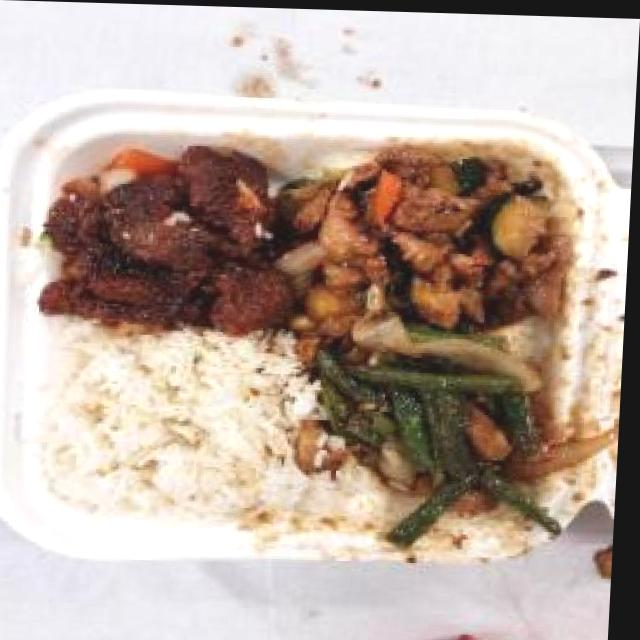Beijing Beef: (39, 133, 295, 337)
Kung Pao Chicken: (290, 132, 593, 342)
String Bean Chicken Breast: (313, 321, 575, 550)
White Steamed Rice: (42, 334, 304, 520)
